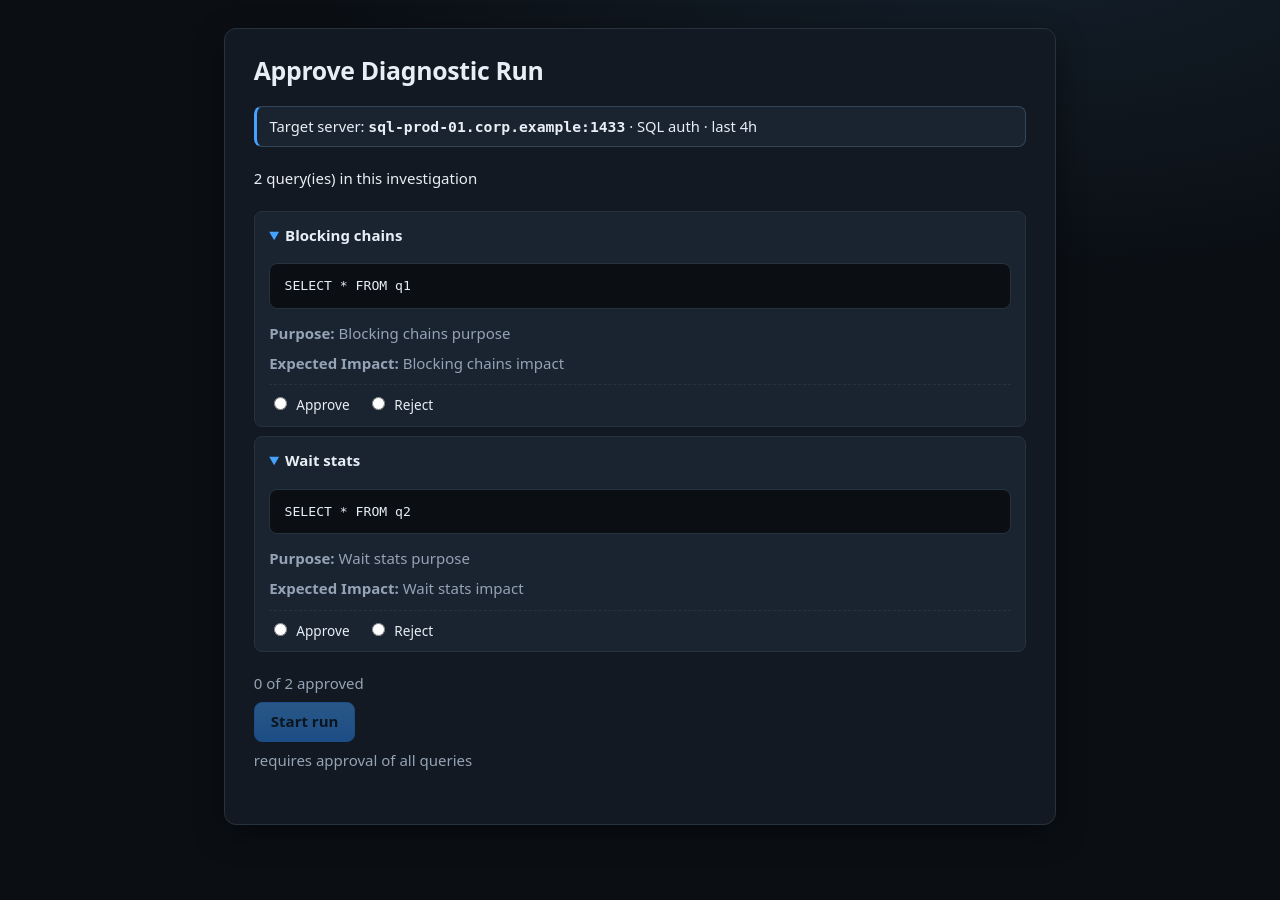
it: ApprovalScreen › goes read-only when the API reports the run already started (409)
Expected: the text "Blocking chains purpose" is shown, 339,323 -> 510,343
Click the radio button labelled "Approve" below "Blocking chains impact": (281, 404) 274,398 -> 287,410
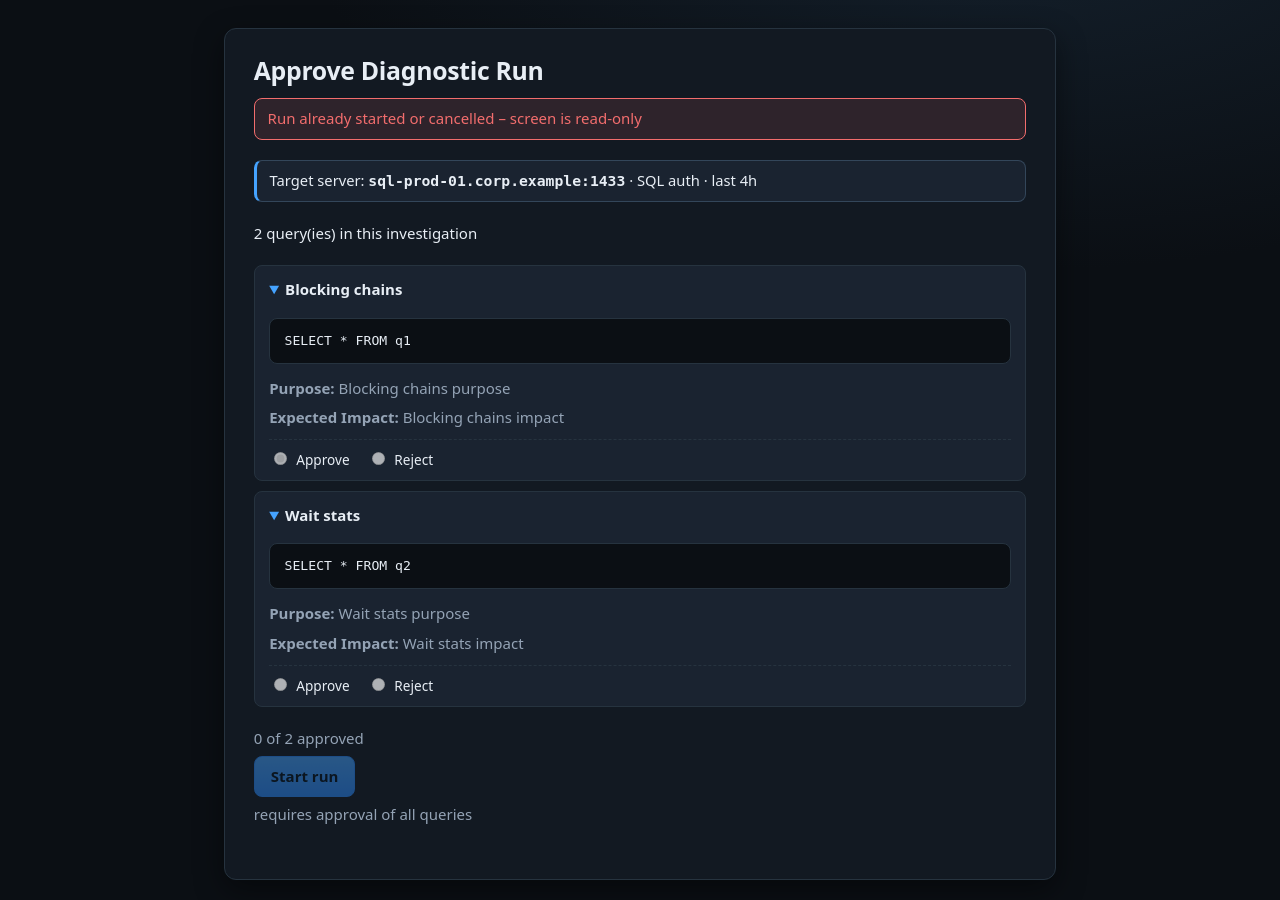
Expected: the button "Start run" is disabled, 254,756 -> 355,797
Expected: the message reads "Run already started or cancelled – screen is read‑only", 268,108 -> 642,128
Expected: the radio button labelled "Approve" below "Blocking chains impact" is disabled, 274,452 -> 287,465
